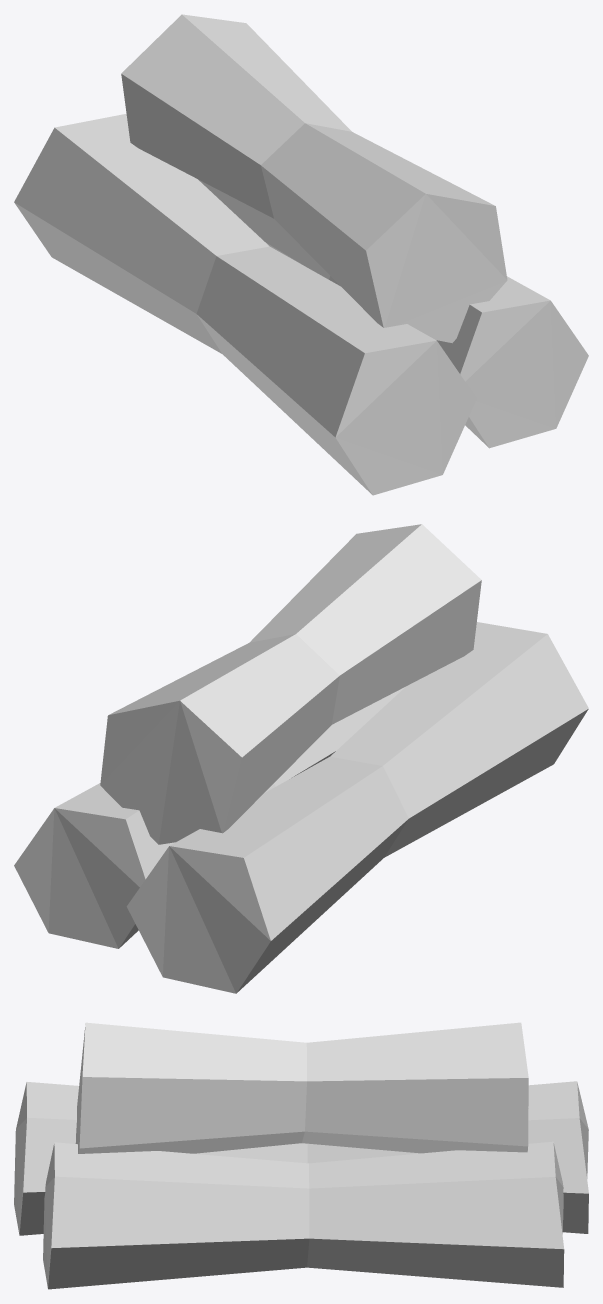
Rendered from map_rolls.fbx.
The picture shows the model from 3 angles, top to bottom: view 1: azimuth 30°, elevation 25°; view 2: azimuth 150°, elevation 25°; view 3: azimuth 270°, elevation 25°; orthographic projection. The views are drawn at different scales.
Parts seen in each view (by area): view 1: map_rolls; view 2: map_rolls; view 3: map_rolls.
Boxes of the visible parts, x1,y1,x2,y2 form: map_rolls: (14,14,588,495); map_rolls: (14,524,588,993); map_rolls: (14,1022,588,1289).
Bounding box in the file's own units: 0.2703 × 0.2358 × 0.5517.
